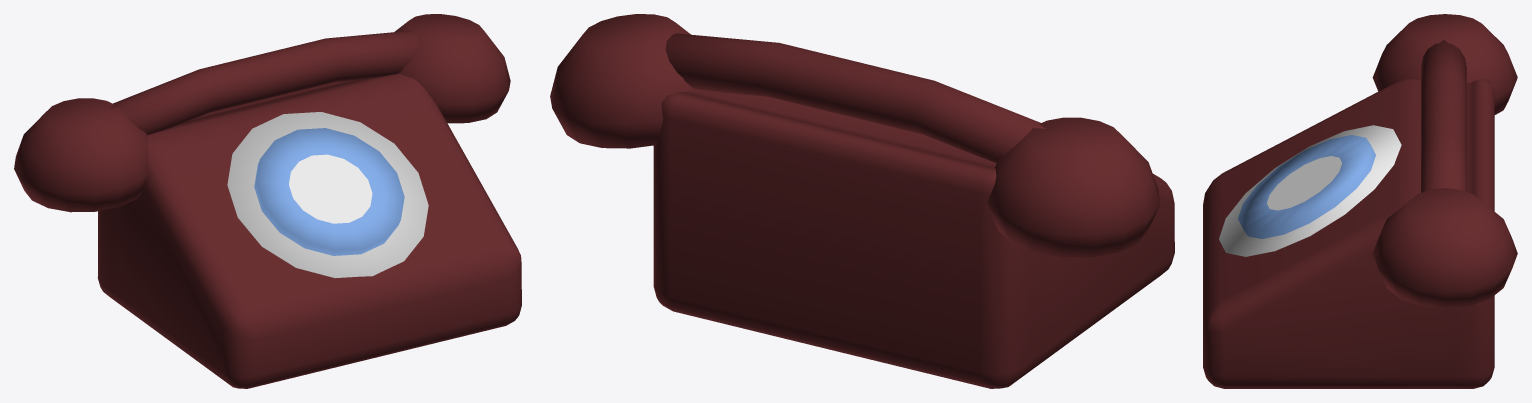
File: Telefono.fbx
The picture shows the model from 3 angles, left to right: view 1: azimuth 30°, elevation 25°; view 2: azimuth 150°, elevation 25°; view 3: azimuth 270°, elevation 25°; orthographic projection. The views are drawn at different scales.
Visible parts, largest first — view 1: Telefono; view 2: Telefono; view 3: Telefono.
Part boxes in pixels (x1=…): Telefono: x1=14, y1=14, x2=521, y2=388; Telefono: x1=550, y1=14, x2=1174, y2=388; Telefono: x1=1203, y1=14, x2=1517, y2=388.
Size of the model in its own units: 149 by 65.44 by 84.01.
